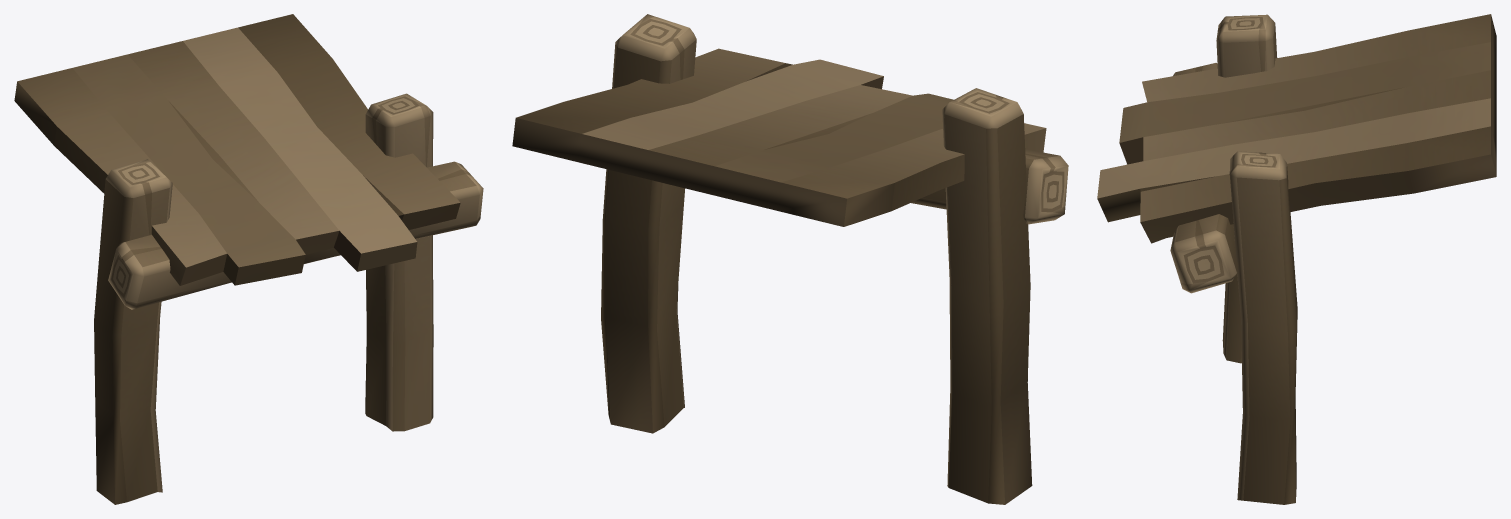
Rendered from orc_wooden_roof.fbx.
3 renders of one model, left to right at view 1: azimuth 30°, elevation 25°; view 2: azimuth 150°, elevation 25°; view 3: azimuth 270°, elevation 25°, orthographic. The views are drawn at different scales.
Parts seen in each view (by area): view 1: orc_wooden_roof; view 2: orc_wooden_roof; view 3: orc_wooden_roof.
Part boxes in pixels (left/top/right/bottom): orc_wooden_roof: left=14, top=14, right=483, bottom=504; orc_wooden_roof: left=512, top=14, right=1068, bottom=504; orc_wooden_roof: left=1097, top=14, right=1496, bottom=504.
Bounding box in the file's own units: 394 × 347 × 368.
